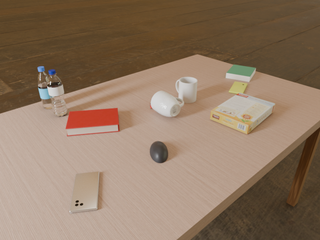book: (66, 108, 119, 136), (226, 65, 256, 82)
bottle: (46, 70, 67, 117), (37, 66, 52, 109)
box: (210, 92, 275, 134)
cup: (151, 91, 184, 117), (176, 77, 197, 103)
mouse: (150, 141, 168, 163)
phone: (70, 172, 99, 213), (229, 82, 247, 94)
